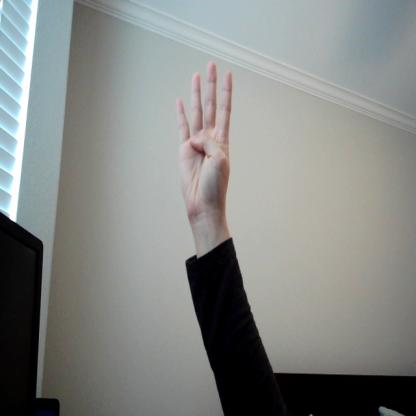four: (172, 53, 236, 208)
